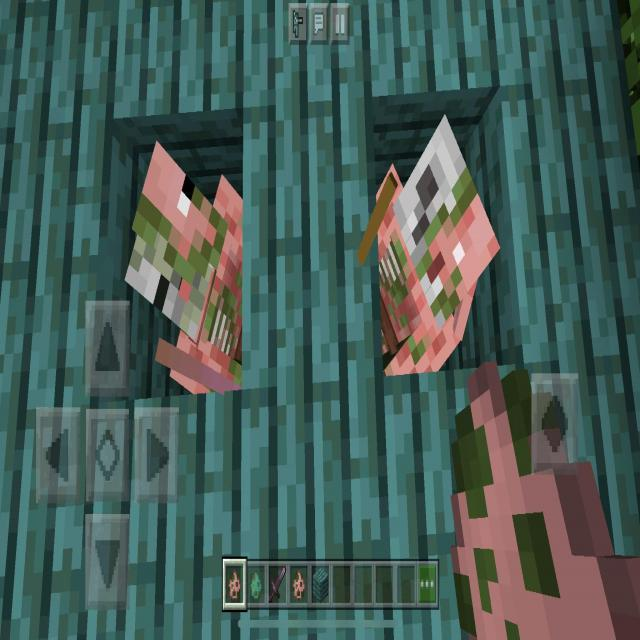Zombified Piglin: (123, 134, 284, 410), (351, 107, 504, 389)
